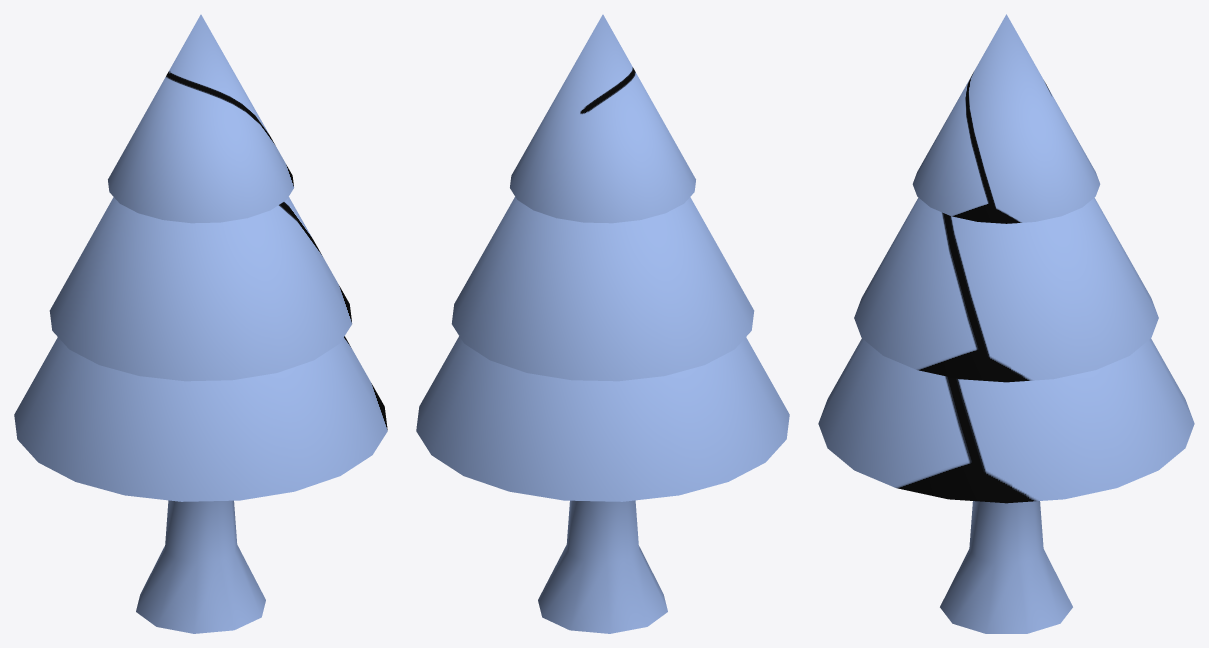
File: Pointy_Tree.fbx
3 renders of one model, left to right at view 1: azimuth 30°, elevation 25°; view 2: azimuth 150°, elevation 25°; view 3: azimuth 270°, elevation 25°, orthographic.
Visible parts, largest first — view 1: TreePointyTop; view 2: TreePointyTop; view 3: TreePointyTop.
Boxes of the visible parts, x1,y1,x2,y2 form: TreePointyTop: [14, 14, 387, 633]; TreePointyTop: [416, 14, 789, 633]; TreePointyTop: [818, 14, 1194, 633].
Bounding box in the file's own units: 593 × 1031 × 593.
